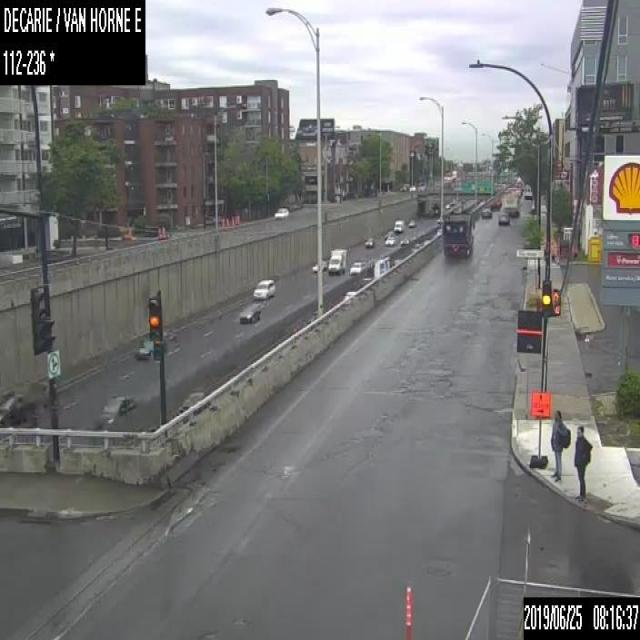construction: (529, 390, 550, 468), (404, 584, 412, 639), (234, 214, 239, 224), (157, 225, 160, 238), (161, 226, 164, 238), (230, 214, 233, 226), (225, 216, 228, 226), (221, 216, 224, 226)
pedestrian: (548, 408, 571, 481), (572, 423, 593, 501)
vehicle: (94, 394, 141, 430), (441, 210, 475, 254), (0, 390, 37, 426), (172, 391, 205, 417), (136, 336, 167, 359), (326, 247, 346, 273), (238, 301, 260, 324), (252, 277, 274, 299), (372, 255, 392, 276), (502, 192, 519, 216), (348, 260, 364, 275), (312, 260, 326, 272), (274, 207, 289, 217), (392, 220, 404, 232), (490, 196, 501, 209), (498, 212, 509, 224), (363, 236, 374, 247), (480, 207, 491, 217), (384, 235, 394, 245), (400, 235, 408, 245), (408, 218, 414, 227), (409, 183, 415, 190), (400, 184, 406, 190)
